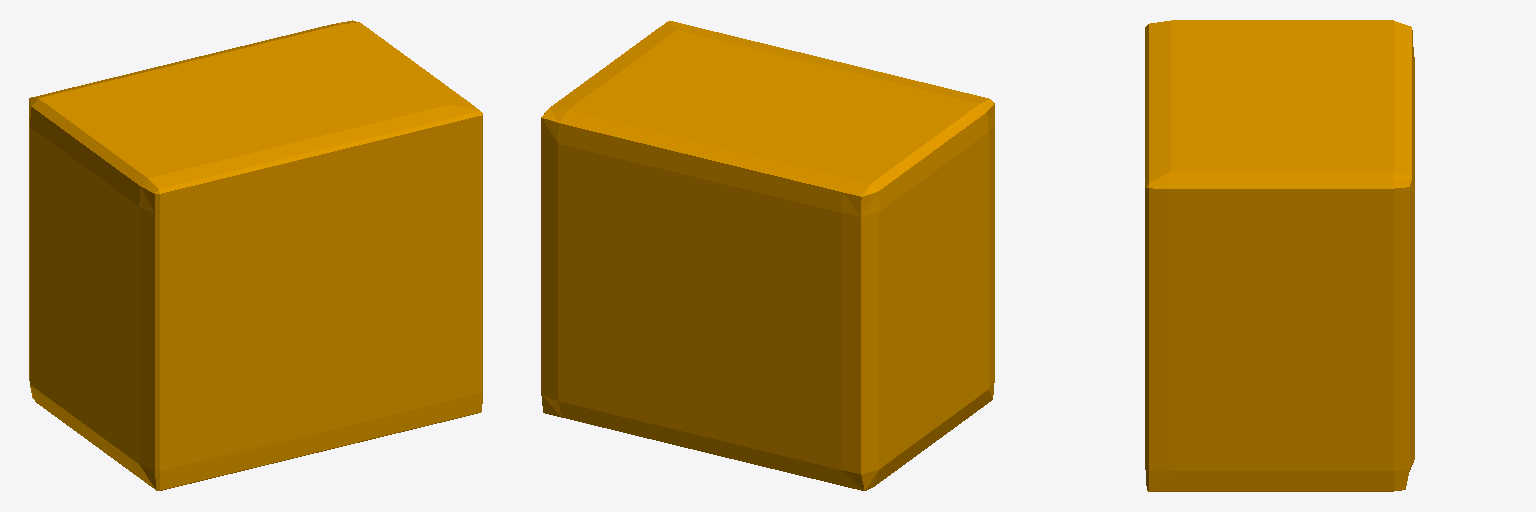
The robot description file, URDF, robot "cylinder_box_130":
<?xml version="1.0" encoding="utf-8"?>  <robot name="cylinder_box_130">   <link name="cylinder_box_130">     <visual>       <geometry>         <mesh filename="../meshes/box/box_130.stl" scale="1 1 1"/>       </geometry>     </visual>     <collision>       <geometry>         <mesh filename="../meshes/box/box_130.stl" scale="1 1 1"/>       </geometry>     </collision>     <inertial>        <origin         xyz="0 0 0"         rpy="0 0 0" />       <mass value="0.4061689372445443"/>       <origin rpy="0 0 0" xyz="0 0 0"/>       <inertia ixx="0.0003210211569543618" ixy="2.3693716135753793e-07" ixz="2.686453107987963e-07" iyy="0.0004591428126116767" iyz="-2.4040296236974995e-07" izz="0.00038222854401411856"/>     </inertial>   </link>  </robot>

--- Facts derived from the render (not from the file) ---
3 views of the same robot in one strip: view 1: azimuth 30°, elevation 25°; view 2: azimuth 150°, elevation 25°; view 3: azimuth 270°, elevation 25° (orthographic).
Model cylinder_box_130 with 1 links and 0 joints (none), rooted at cylinder_box_130, posed every joint at zero.
Links seen in each view (by area): view 1: cylinder_box_130; view 2: cylinder_box_130; view 3: cylinder_box_130.
Link boxes in pixels (box(x1,y1,x2,y2)): cylinder_box_130: box(29, 20, 482, 490); cylinder_box_130: box(541, 21, 994, 490); cylinder_box_130: box(1145, 20, 1414, 491).
Bounding box of the posed robot: 0.0881 × 0.0604 × 0.077 m (x, y, z).
Meshes: 1 distinct files referenced, 1 mesh visuals loaded (1 binary STL).